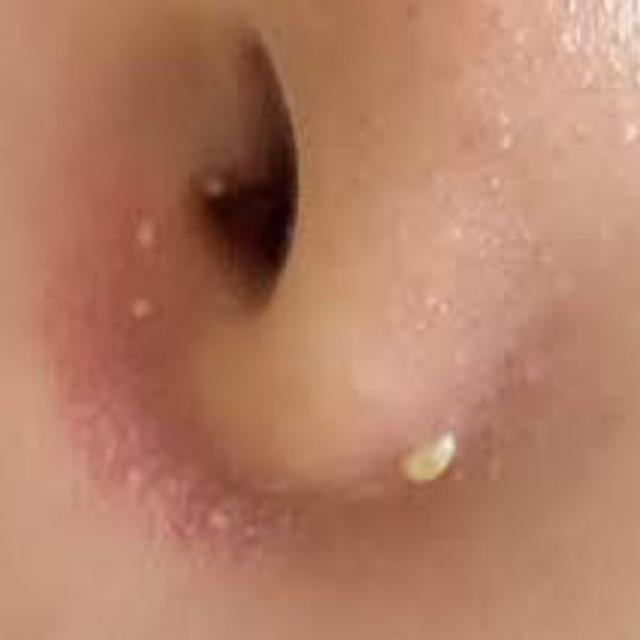pustule: (379, 361, 518, 555)
